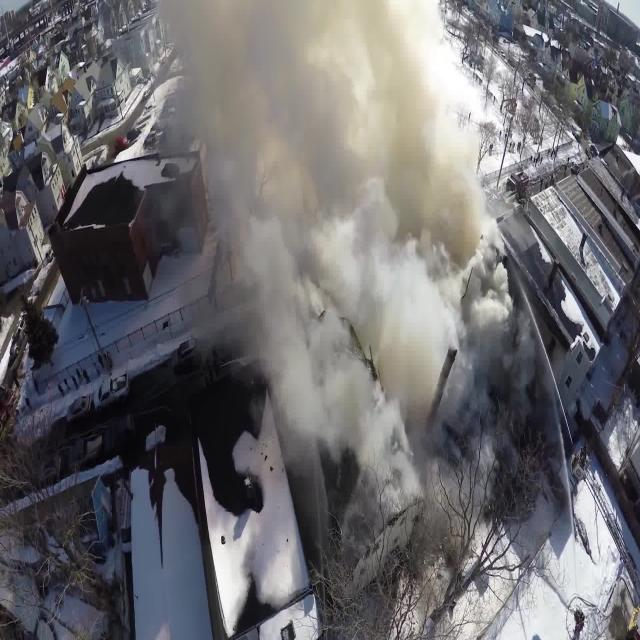smoke: (207, 3, 446, 370)
